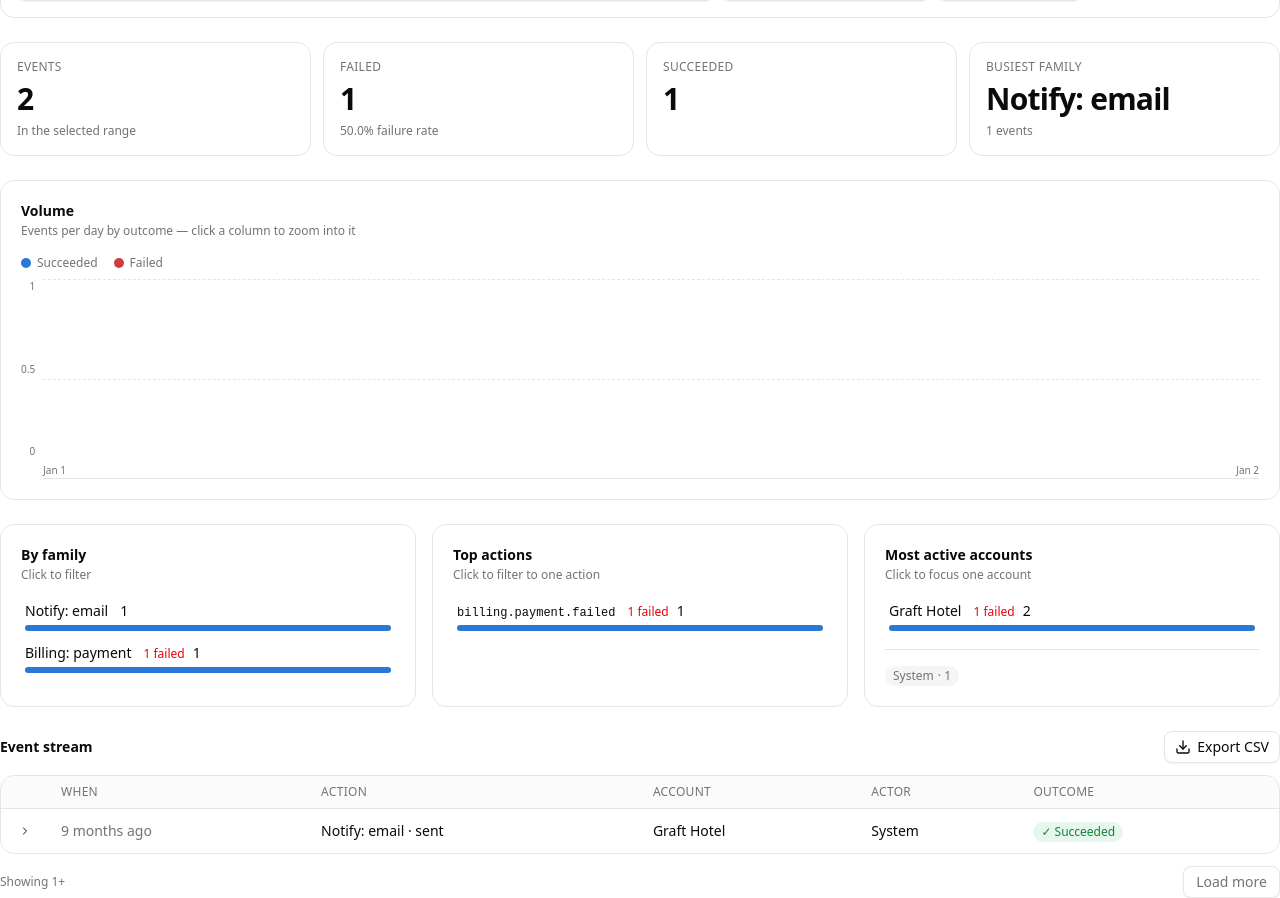
Test: ActivityMonitor › load more advances by cursor and never renders a duplicate row
(page scrolled)
Click the button "Load more" at (1232, 882), box [1183, 866, 1279, 897]
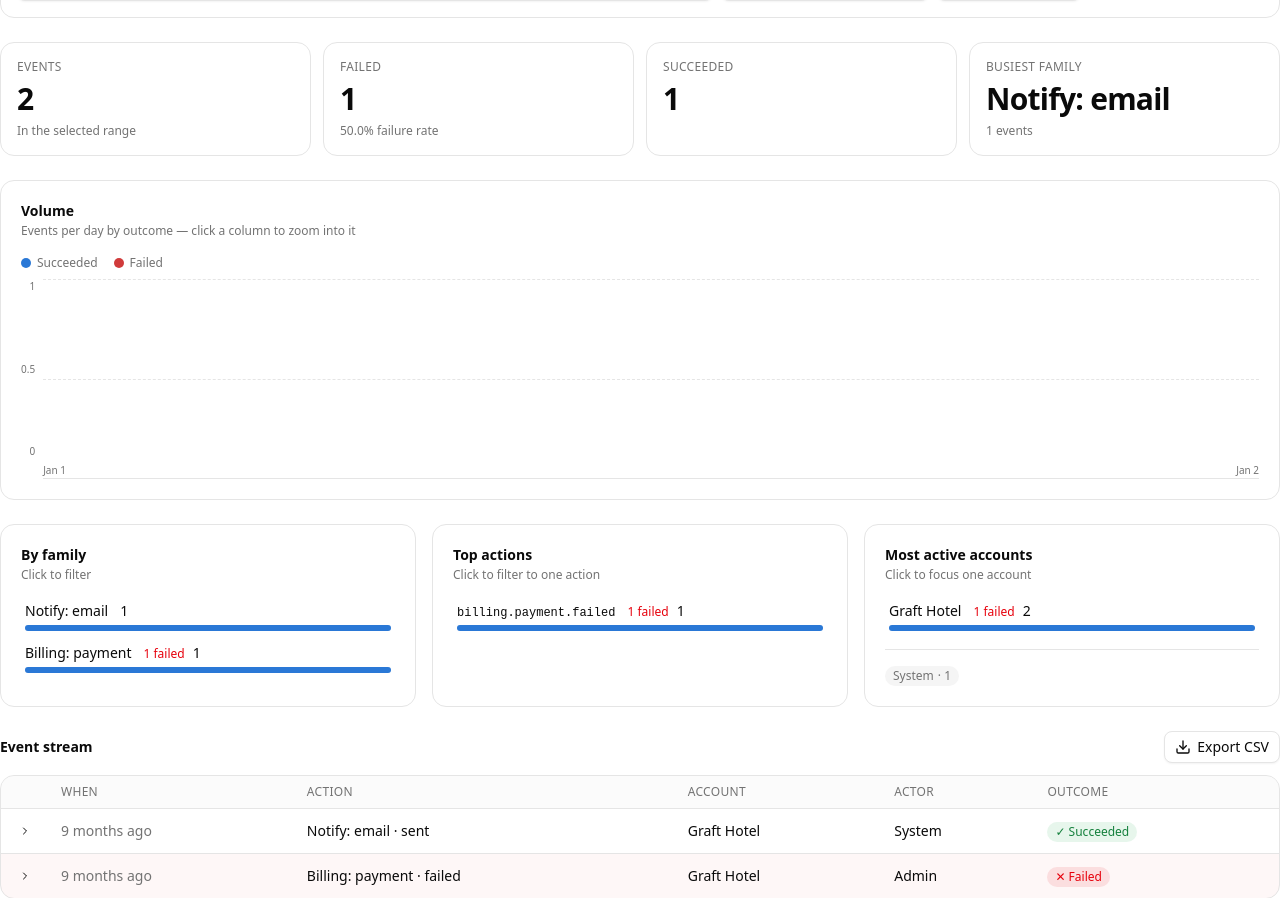
Check: the button "Billing: payment · failed" is shown, box [307, 866, 461, 886]
Check: the number of buttons "Notify: email · sent" is 1, box [307, 821, 429, 841]
